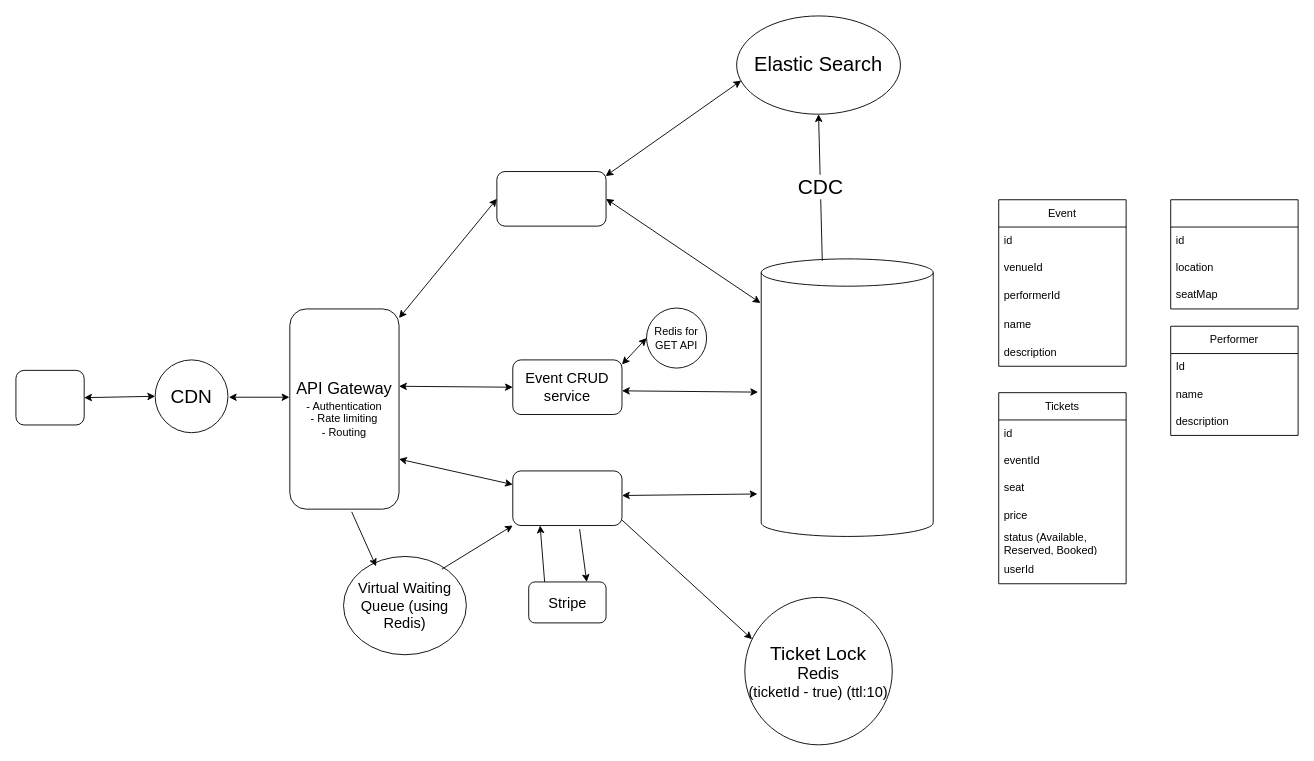
The diagram is 1314 pixels wide and 761 high, and some of its shapes have lost their labels. Here are the shapes that lost their labels. From the top down, the box of each, then its label:
(496, 171, 606, 226): Search
(1170, 199, 1298, 309): Venue
(15, 369, 84, 425): Client
(760, 258, 933, 536): Database (MySQL)
(512, 470, 622, 526): Booking
